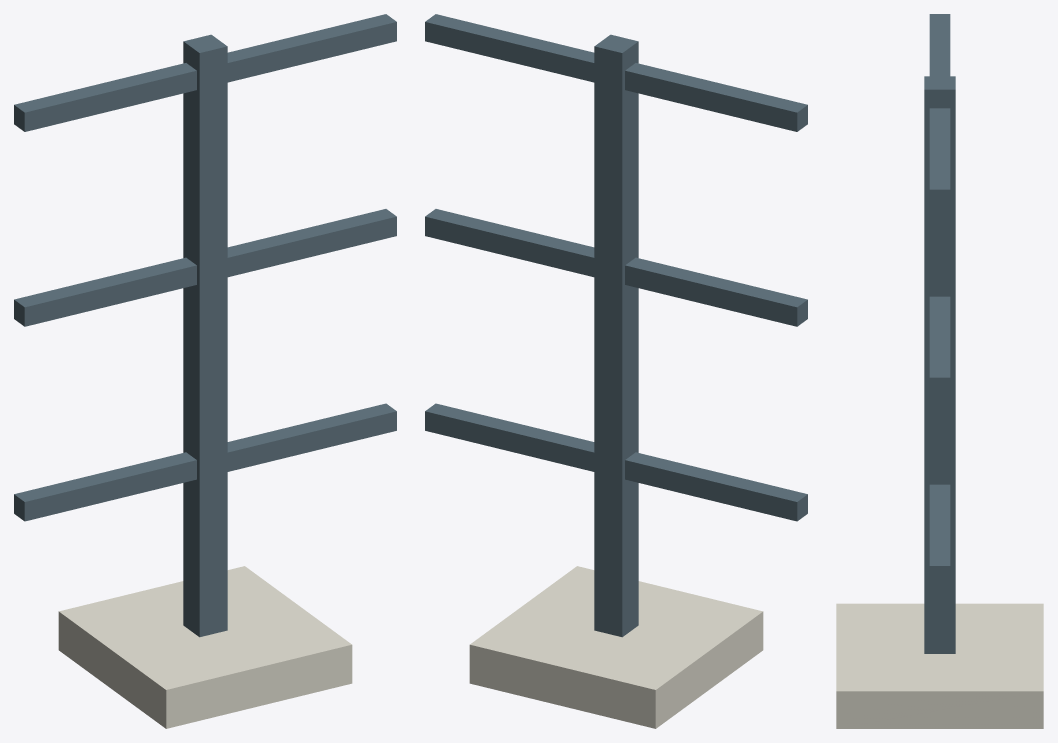
The model's file is voxel-city-districts-antenna-mast-34737182__24923.glb.
3 renders of one model, left to right at view 1: azimuth 30°, elevation 25°; view 2: azimuth 150°, elevation 25°; view 3: azimuth 270°, elevation 25°, orthographic. The views are drawn at different scales.
Parts seen in each view (by area): view 1: antenna-mast-dark, antenna-mast-concrete; view 2: antenna-mast-dark, antenna-mast-concrete; view 3: antenna-mast-concrete, antenna-mast-dark.
Boxes of the visible parts, left/top/right/bottom form: antenna-mast-dark: left=14, top=14, right=396, bottom=637; antenna-mast-concrete: left=58, top=566, right=352, bottom=728; antenna-mast-dark: left=425, top=14, right=807, bottom=637; antenna-mast-concrete: left=469, top=566, right=763, bottom=728; antenna-mast-concrete: left=836, top=603, right=1043, bottom=728; antenna-mast-dark: left=924, top=14, right=955, bottom=653.
Bounding box in the file's own units: 2 × 3.2 × 1.
